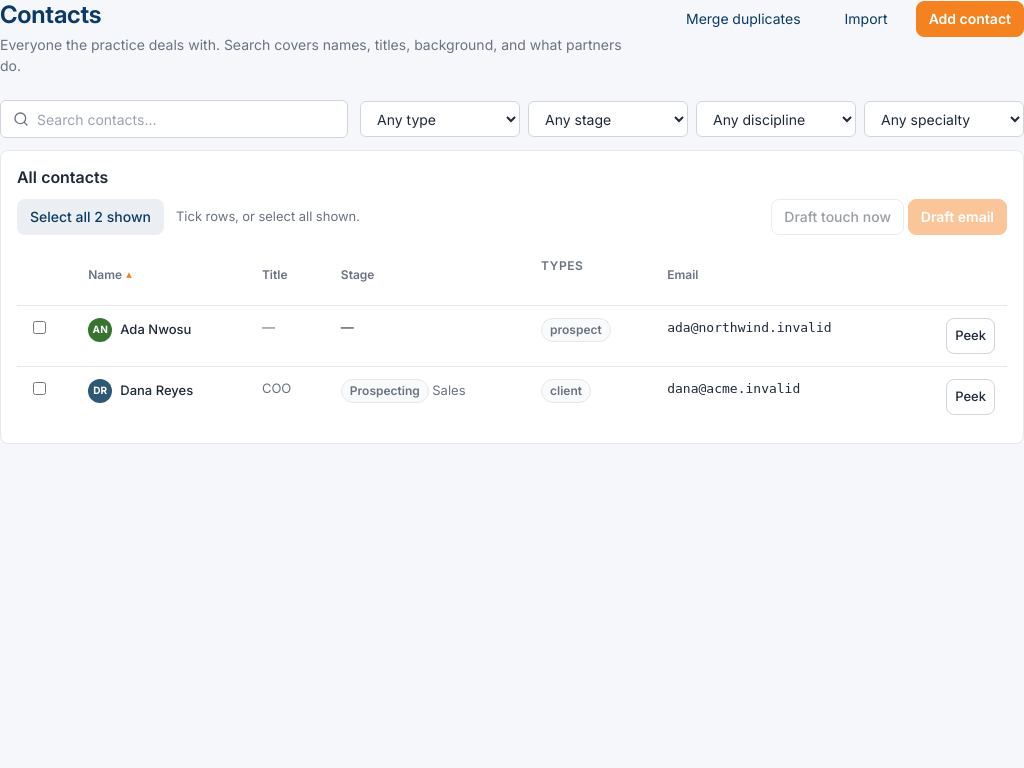
Test: the contacts list › peeks at a row before committing to the whole record
Expected: the text "COO" is shown, x1=250 y1=366 x2=329 y2=427
Click the button with aria-label "Peek at Dana Reyes" at point(971, 397), box x1=946 y1=379 x2=995 y2=415
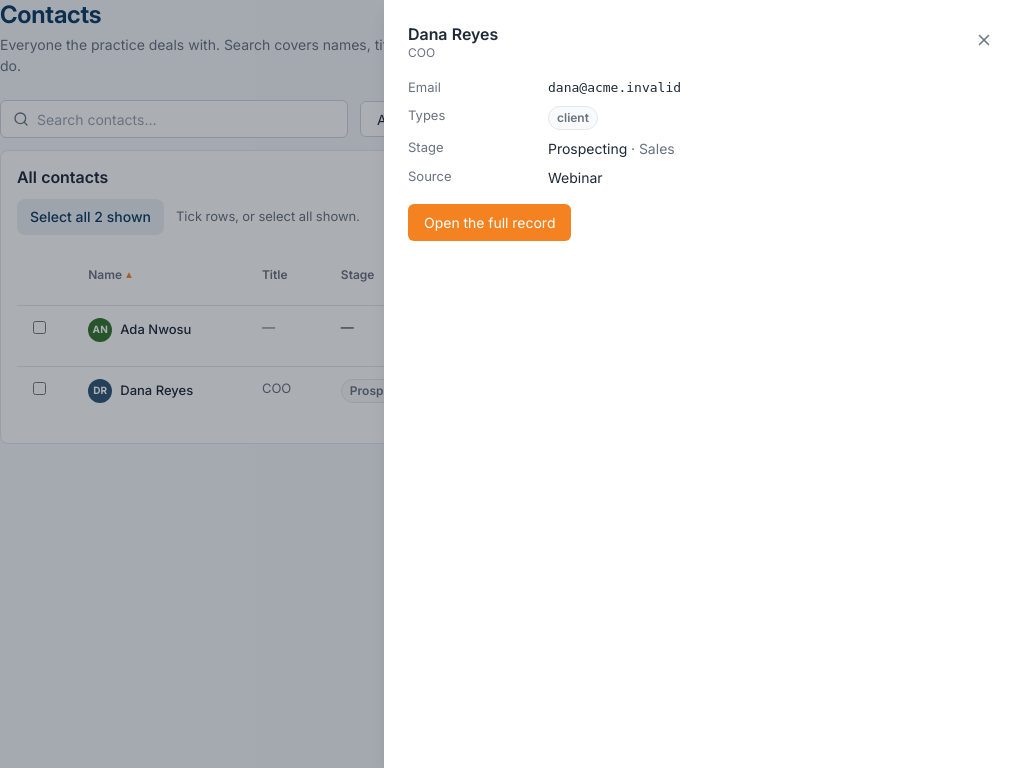
Result: the text "dana@acme.invalid" is shown at x1=548 y1=80 x2=681 y2=95
Press Escape
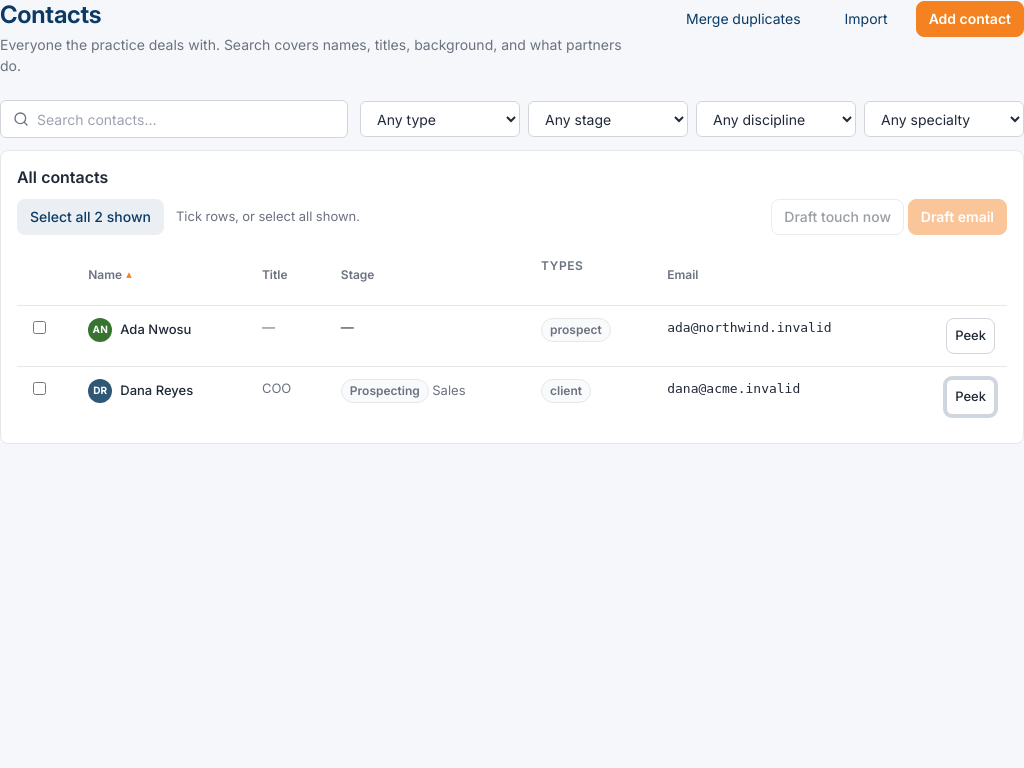
Result: the dialog is gone
